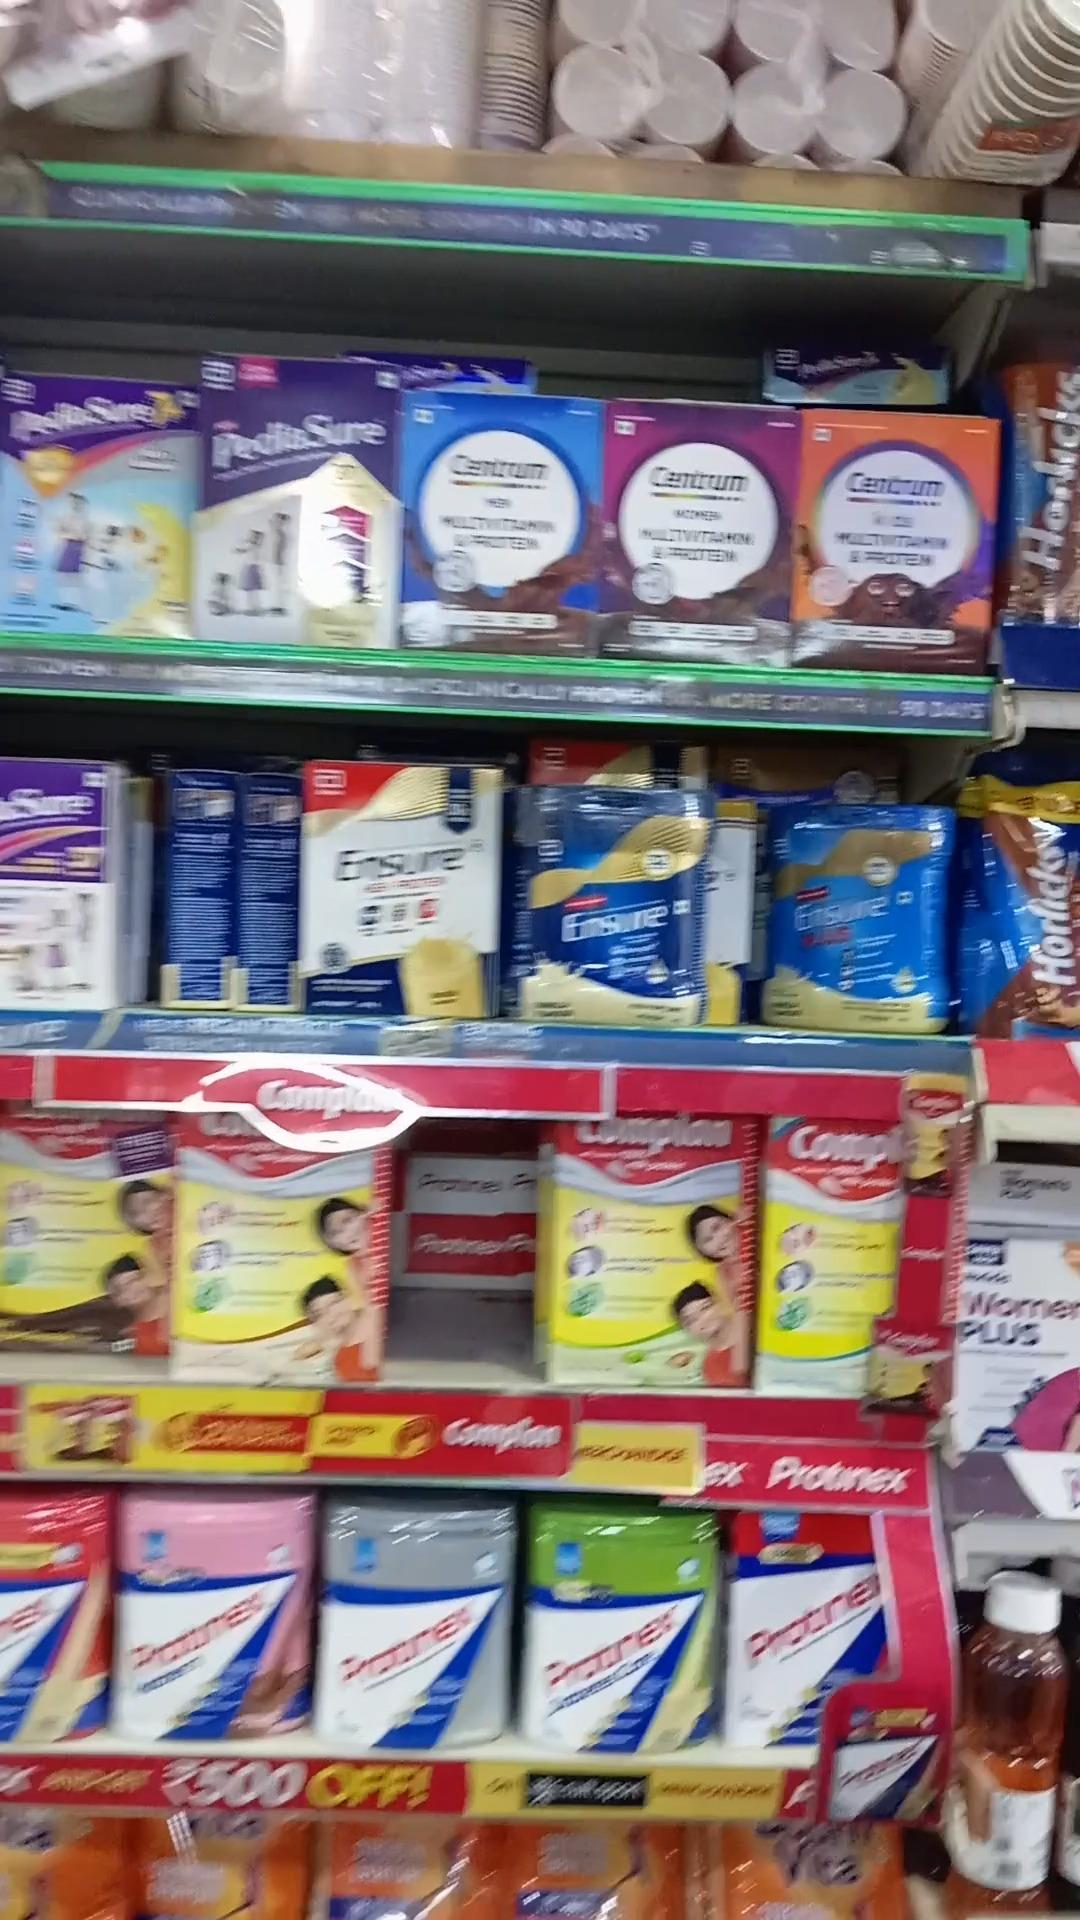COMPLAN_CHOCOLATE_500_GMS_PACK: (0, 1113, 165, 1364)
COMPLAN_CREAMY_CLASSIC_500_G_PACK: (174, 1120, 388, 1382), (760, 1117, 873, 1390)
COMPLAN_PISTA_BADAM_500_GMS_PACK: (550, 1117, 749, 1389)
ENSURE_VANILLA_400_G_PACK: (298, 762, 502, 1018)
PEDIASURE_VANILLA_500_G_PACK: (206, 353, 400, 650)
PROTINEX_ORIGINAL_400_G_JAR: (319, 1506, 517, 1755)
